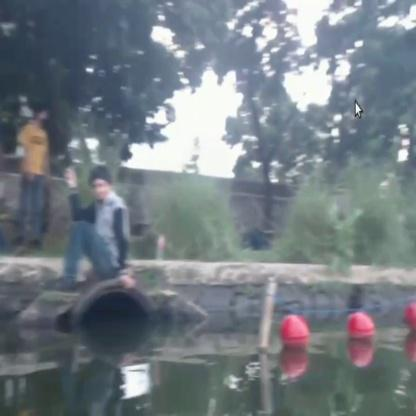red_buoy: (344, 310, 374, 348), (283, 318, 309, 350)
